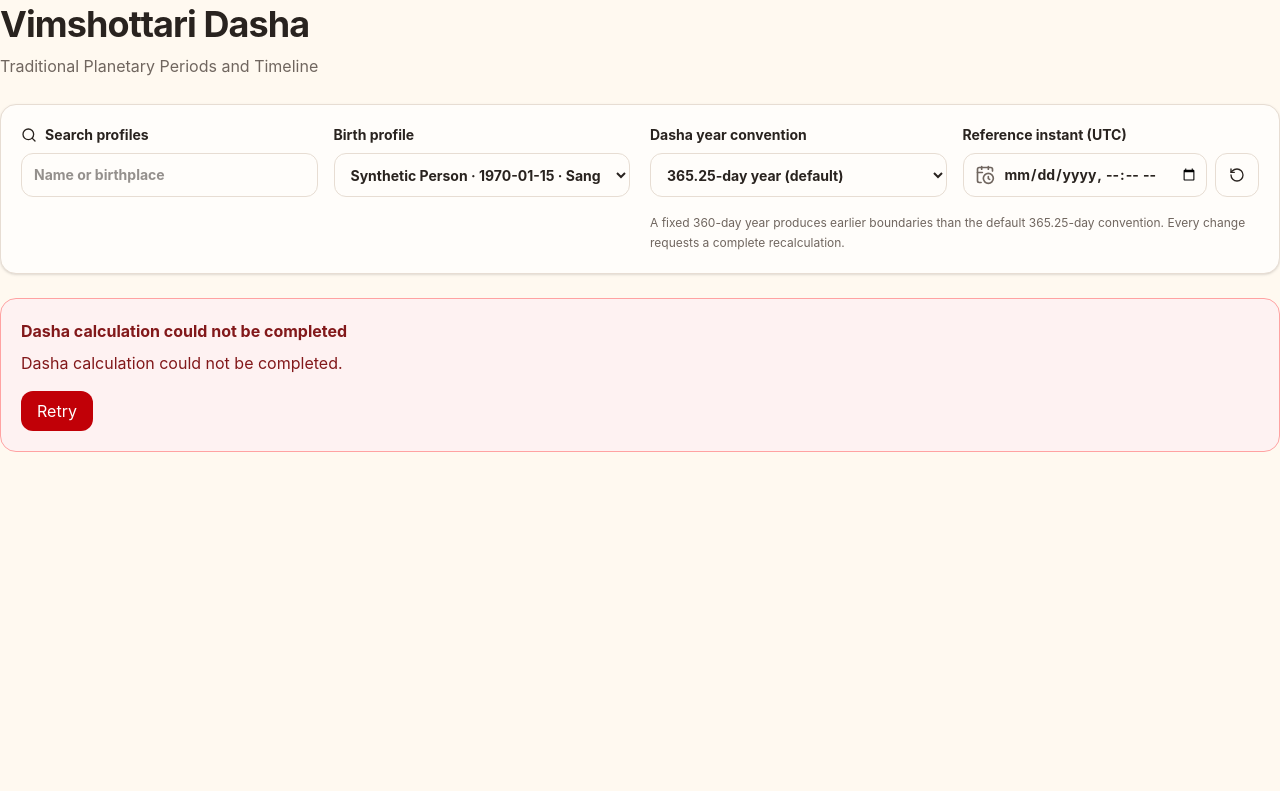
Test: DashaPage › shows loading and retryable errors without fabricated periods
This screenshot has width=1280, height=791.
Expected: the message shows "Dasha calculation could not be completed", [21,321,347,341]
Expected: the text "Dasha balance at birth" is not shown
What coordinates should you click on to do the following:
click the button "Retry"
I would click on:
 (57, 411)
Its box is [21,391,93,431].
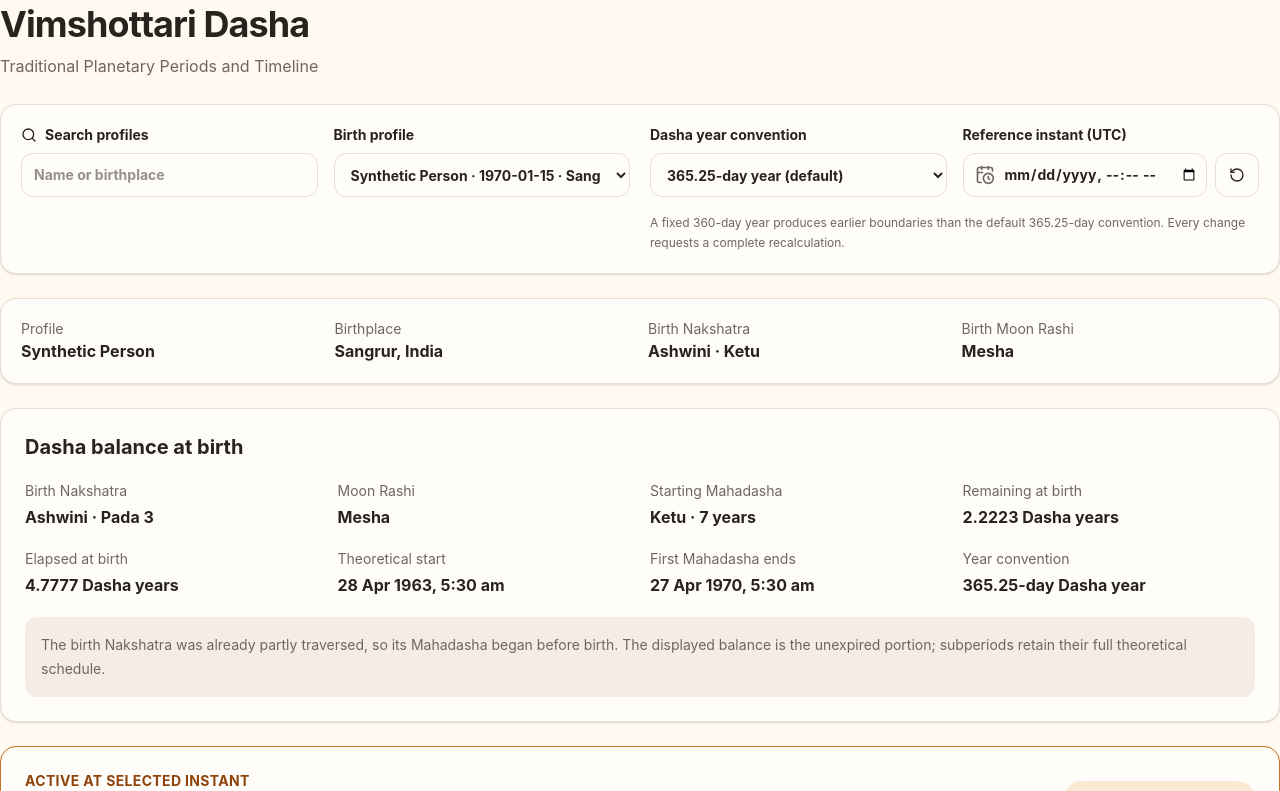
Expected: the heading "Dasha balance at birth" is shown, [25,435,243,459]
